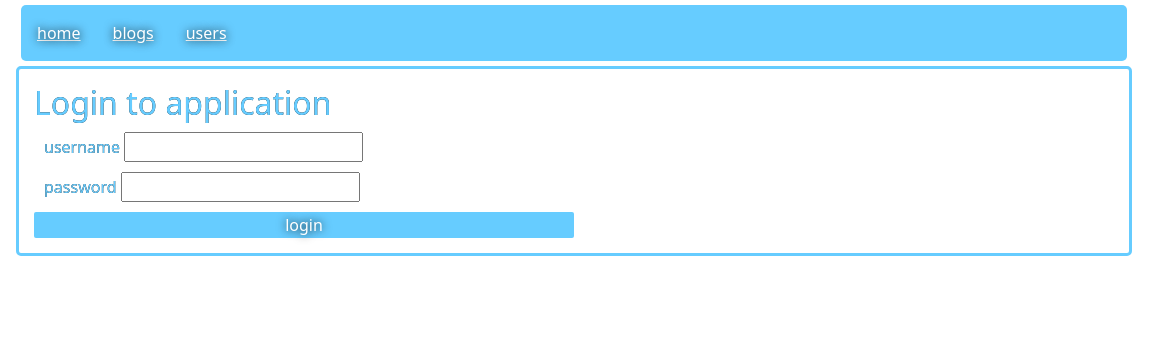
Test: Blog app › Login › fails with wrong credentials
This screenshot has width=1149, height=344.
In the field named "Username": (244, 147) 124,132 -> 363,162, type "not_valid_user"
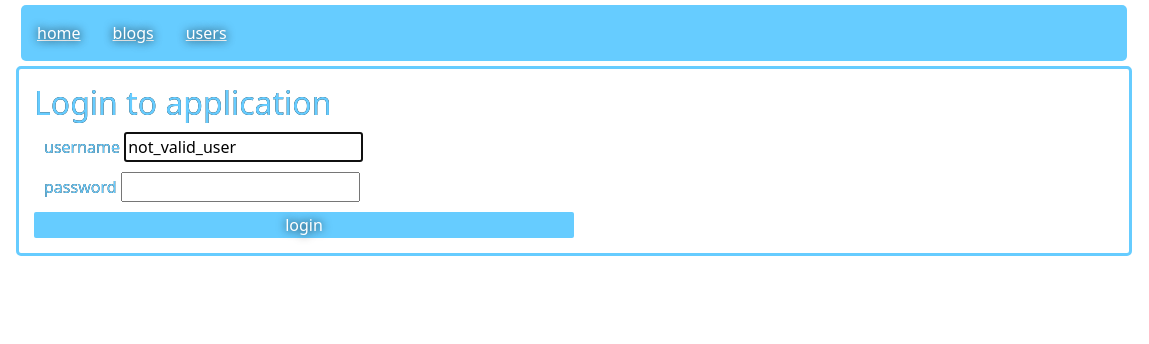
In the password field named "Password": (241, 187) 121,172 -> 360,202, type "abc"
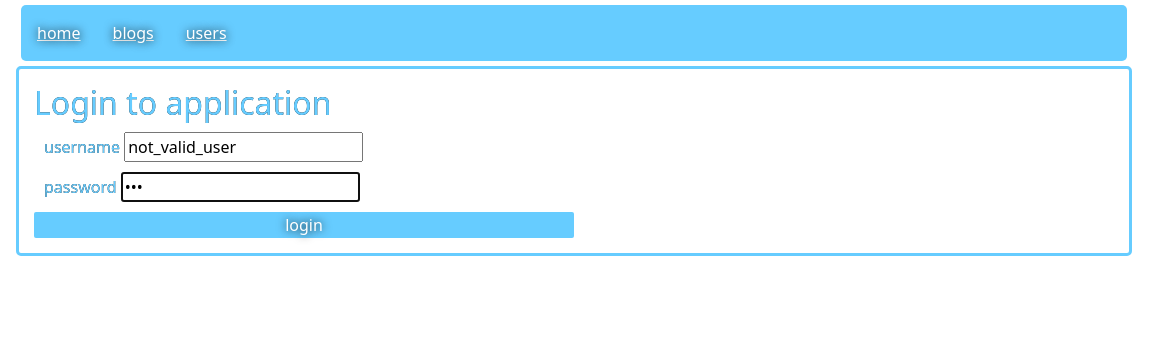
Click the button with id "login-button": (304, 225) 34,212 -> 574,238
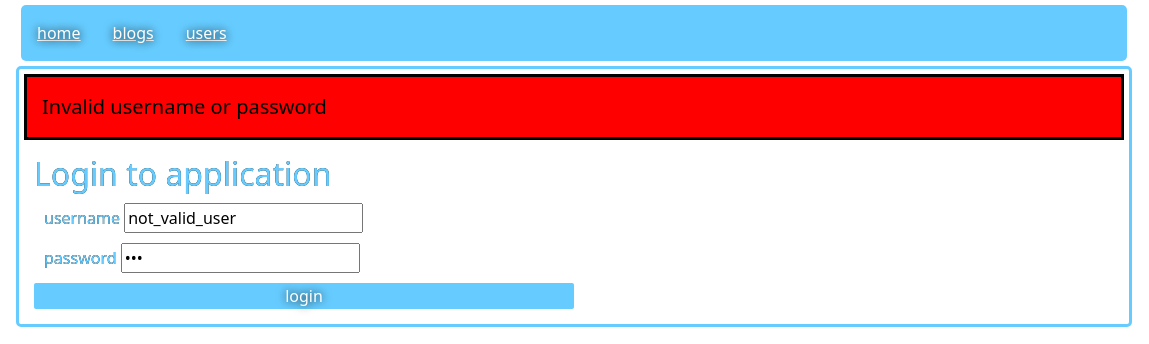
Expected: the text "Invalid username or password" is shown, 24,74 -> 1124,140
